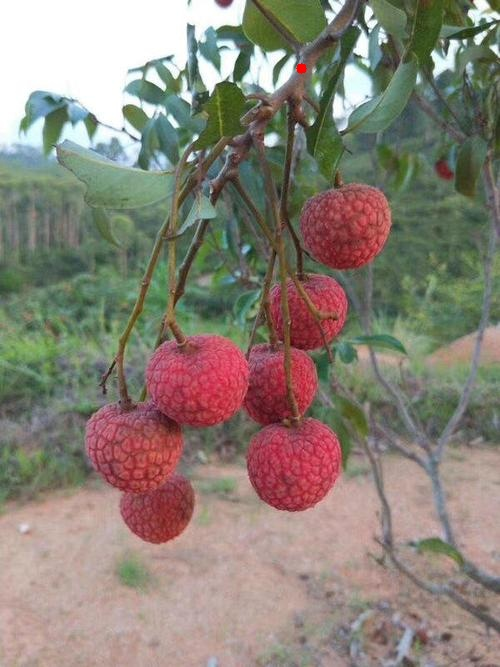litchi: (86, 183, 389, 540)
stem: (221, 1, 358, 162)
